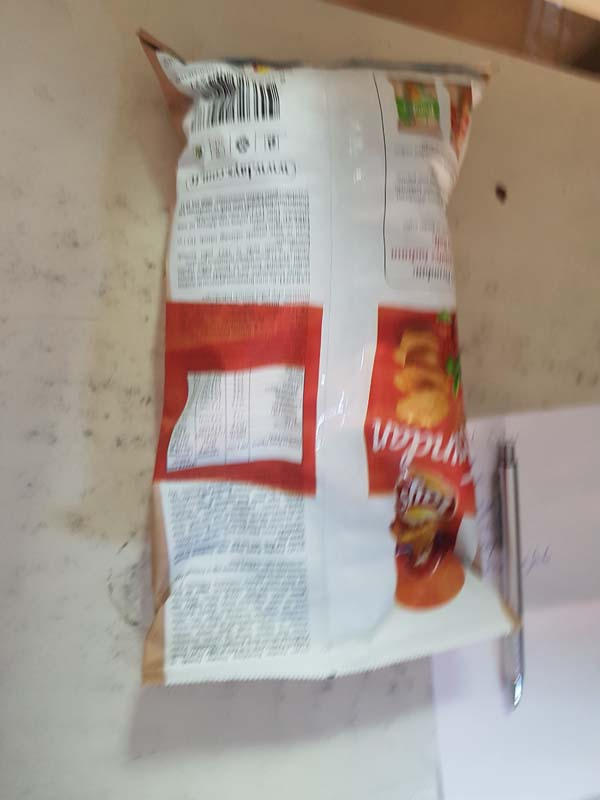laysfirindan: (128, 18, 522, 684)
